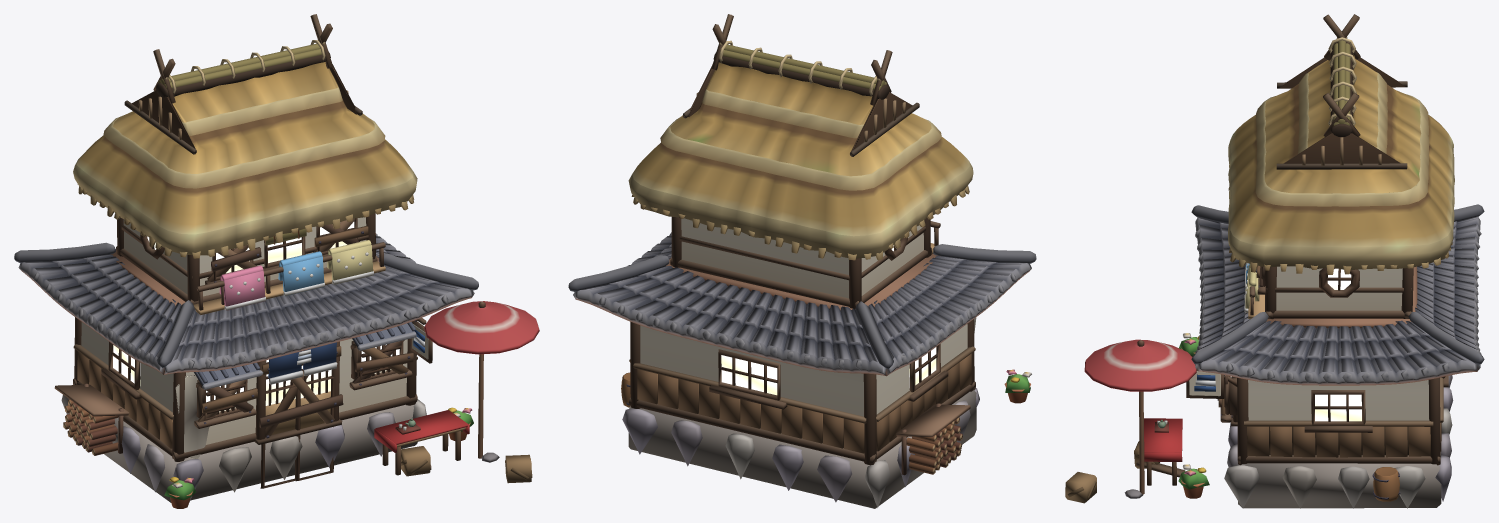
Rendered from zv-bamboo-inn.glb.
The picture shows the model from 3 angles, left to right: view 1: azimuth 30°, elevation 25°; view 2: azimuth 150°, elevation 25°; view 3: azimuth 270°, elevation 25°; orthographic projection. The views are drawn at different scales.
Visible parts, largest first — view 1: zv-bamboo-inn, saved, siege, window_glow; view 2: zv-bamboo-inn, window_glow, saved; view 3: zv-bamboo-inn, saved, siege, window_glow.
Part boxes in pixels (bbox=[...]): zv-bamboo-inn: bbox=[14, 14, 478, 502]; saved: bbox=[164, 240, 539, 508]; siege: bbox=[175, 218, 532, 483]; window_glow: bbox=[113, 222, 399, 412]; zv-bamboo-inn: bbox=[568, 14, 1036, 508]; window_glow: bbox=[721, 245, 936, 395]; saved: bbox=[1004, 369, 1031, 403]; zv-bamboo-inn: bbox=[1186, 14, 1484, 508]; saved: bbox=[1084, 263, 1259, 498]; siege: bbox=[1065, 265, 1262, 503]; window_glow: bbox=[1230, 268, 1361, 421].
Bounding box in the file's own units: 4.97 × 5.59 × 5.32.
